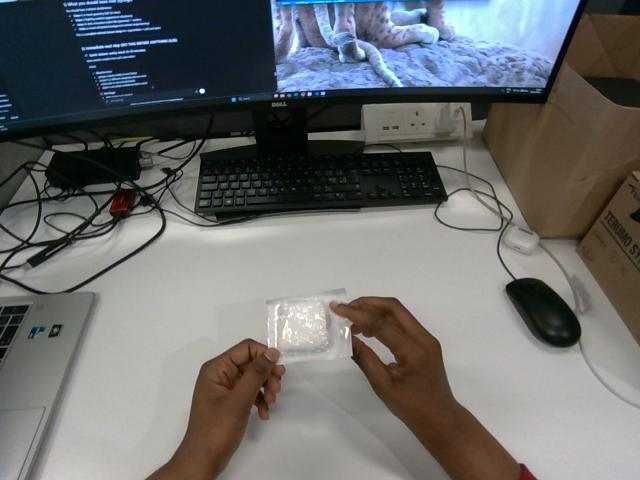gauze: (267, 289, 351, 363)
